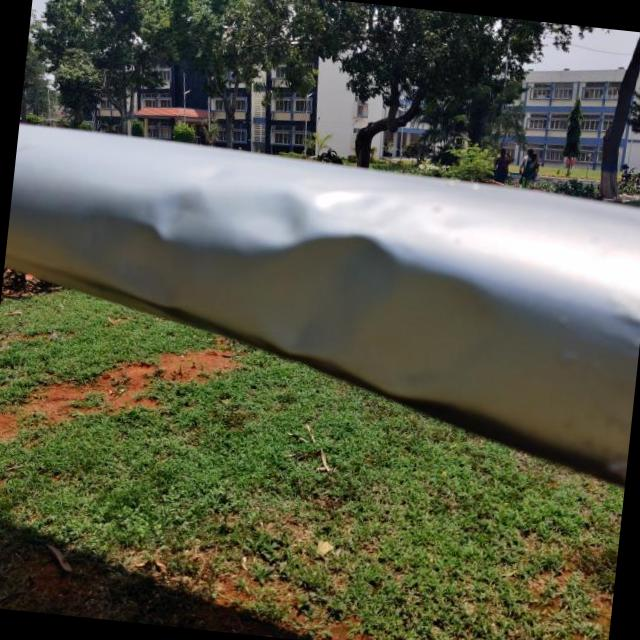Dent: (65, 136, 527, 421)
